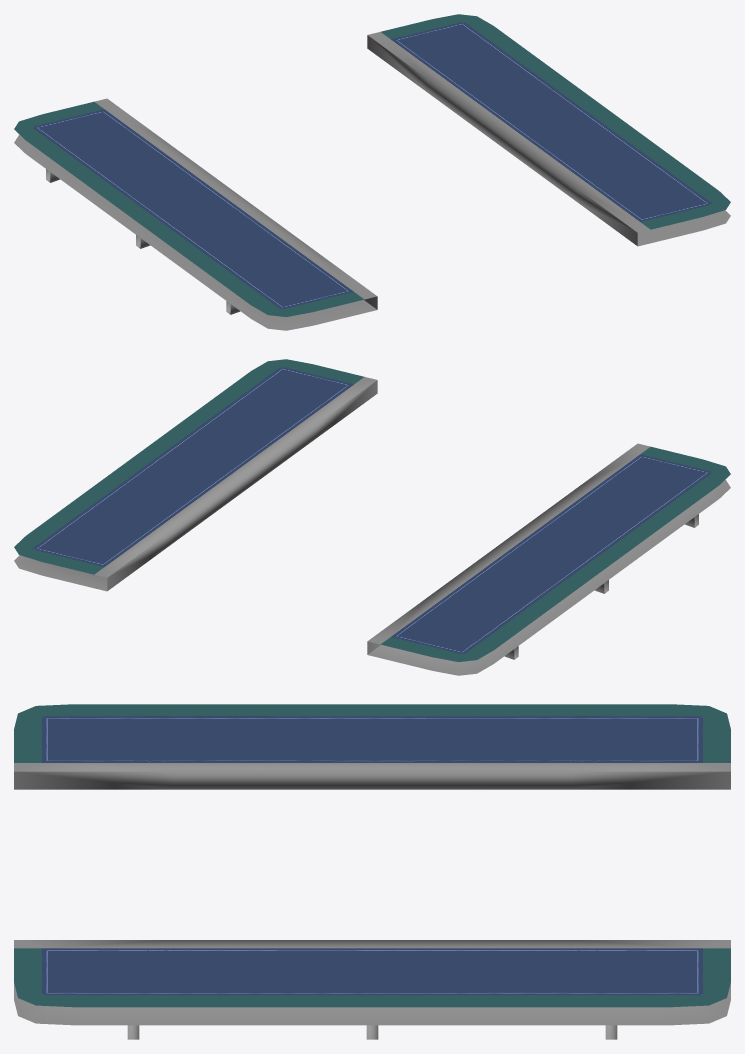
Rendered from IceMaze_Ledge01.FBX.
3 renders of one model, top to bottom at view 1: azimuth 30°, elevation 25°; view 2: azimuth 150°, elevation 25°; view 3: azimuth 270°, elevation 25°, orthographic. The views are drawn at different scales.
Parts seen in each view (by area): view 1: IceMaze_Ledge01_Floor, IceMaze_Ledge01; view 2: IceMaze_Ledge01_Floor, IceMaze_Ledge01; view 3: IceMaze_Ledge01_Floor, IceMaze_Ledge01.
Boxes of the visible parts, x1,y1,x2,y2 form: IceMaze_Ledge01_Floor: (14, 14, 730, 317); IceMaze_Ledge01: (14, 32, 730, 330); IceMaze_Ledge01_Floor: (14, 359, 730, 662); IceMaze_Ledge01: (14, 377, 730, 675); IceMaze_Ledge01_Floor: (14, 704, 730, 1007); IceMaze_Ledge01: (14, 763, 730, 1039).
Bounding box in the file's own units: 18 × 0.9 × 18.
